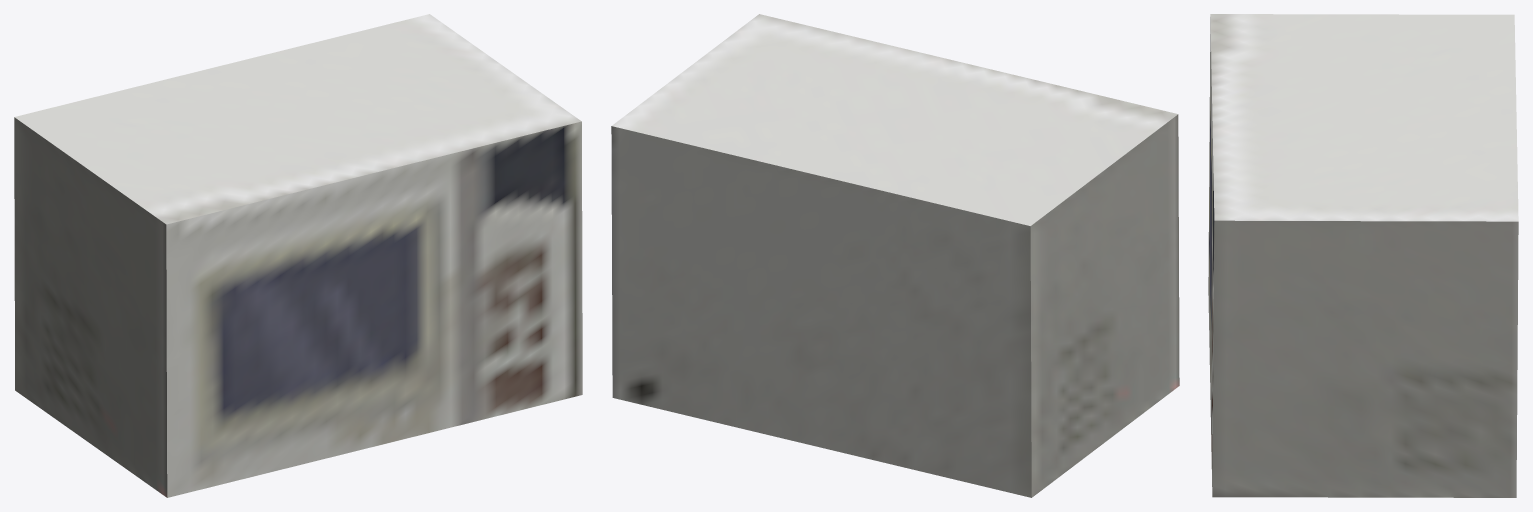
File: W_Microwave1.fbx
3 renders of one model, left to right at view 1: azimuth 30°, elevation 25°; view 2: azimuth 150°, elevation 25°; view 3: azimuth 270°, elevation 25°, orthographic.
Visible parts, largest first — view 1: TV; view 2: TV; view 3: TV.
Part boxes in pixels (box(x1,y1,x2,y2)): TV: box(14, 14, 582, 497); TV: box(611, 14, 1179, 497); TV: box(1208, 14, 1518, 497).
Bounding box in the file's own units: 16.5 × 10.32 × 10.42.
